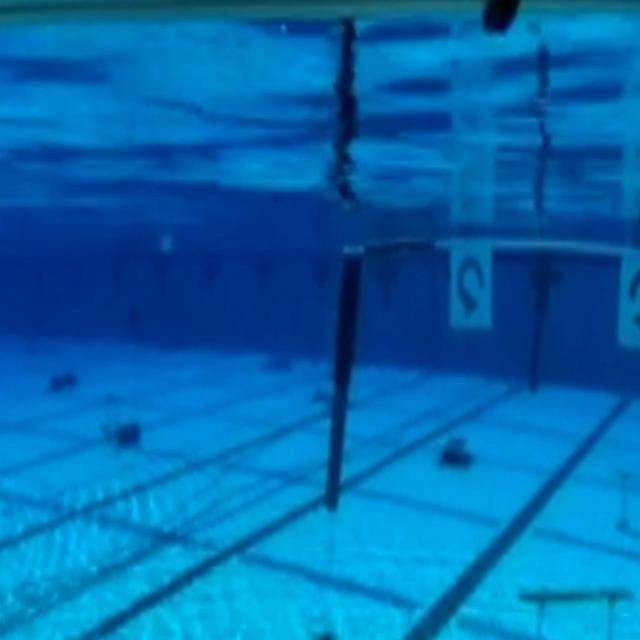Gate: (316, 230, 640, 545)
